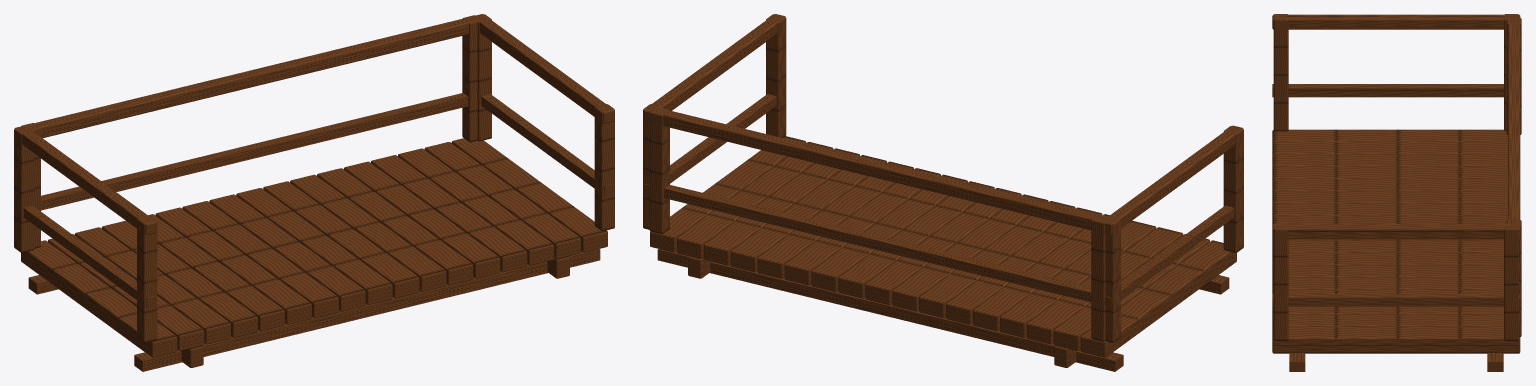
File: fortified-compound-expansion-gatehouse-roof-walk-5f866163__27107.glb
3 renders of one model, left to right at view 1: azimuth 30°, elevation 25°; view 2: azimuth 150°, elevation 25°; view 3: azimuth 270°, elevation 25°, orthographic. The views are drawn at different scales.
Parts seen in each view (by area): view 1: gatehouse-roof-walk; view 2: gatehouse-roof-walk; view 3: gatehouse-roof-walk.
Boxes of the visible parts, x1,y1,x2,y2 form: gatehouse-roof-walk: (14, 14, 614, 371); gatehouse-roof-walk: (643, 14, 1243, 371); gatehouse-roof-walk: (1272, 14, 1521, 371).
Bounding box in the file's own units: 4.12 × 1.3 × 2.01.
Materials: 1 (1 with a texture image).
